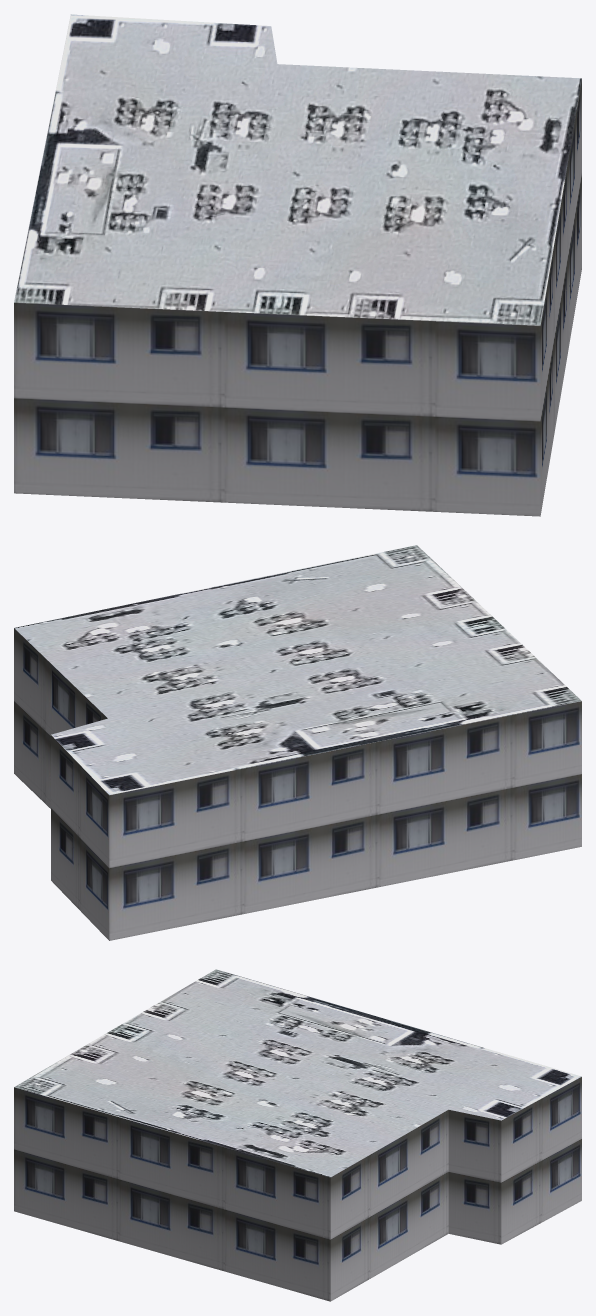
The model's file is ResTex__5165.fbx.
3 views of the same model, one above another, from view 1: azimuth 30°, elevation 25°; view 2: azimuth 150°, elevation 25°; view 3: azimuth 270°, elevation 25° (orthographic). The views are drawn at different scales.
Visible parts, largest first — view 1: CityEngineMaterial_4_m, CityEngineMaterial_9_m; view 2: CityEngineMaterial_9_m, CityEngineMaterial_4_m; view 3: CityEngineMaterial_9_m, CityEngineMaterial_4_m.
Boxes of the visible parts, box(x1,y1,x2,y2) form: CityEngineMaterial_4_m: box(14, 14, 581, 325); CityEngineMaterial_9_m: box(14, 79, 581, 516); CityEngineMaterial_9_m: box(14, 628, 581, 940); CityEngineMaterial_4_m: box(14, 545, 581, 794); CityEngineMaterial_9_m: box(14, 1077, 581, 1301); CityEngineMaterial_4_m: box(14, 969, 581, 1177).
Size of the model in its own units: 21.58 by 6 by 24.88.
Materials: 2 (2 with a texture image).
